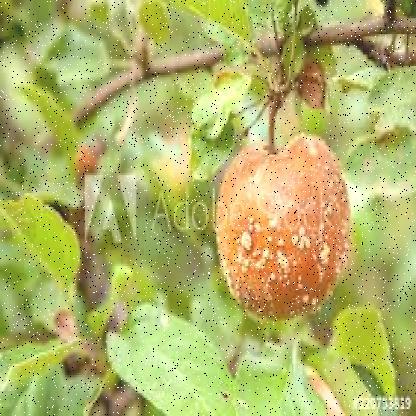damaged_apple: (219, 140, 351, 320)
